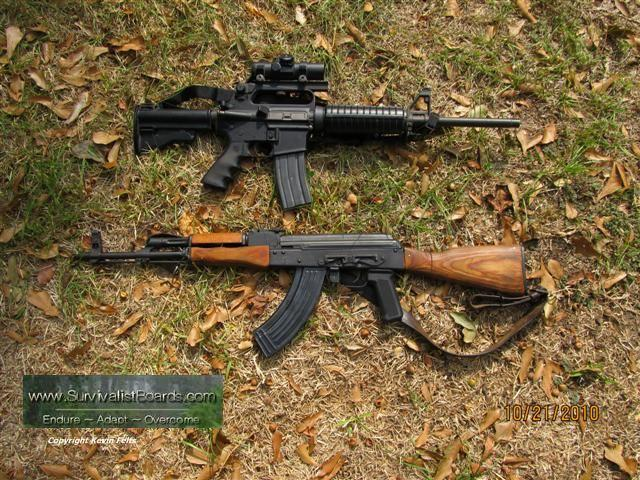blood: (62, 212, 543, 354), (124, 44, 544, 201)
